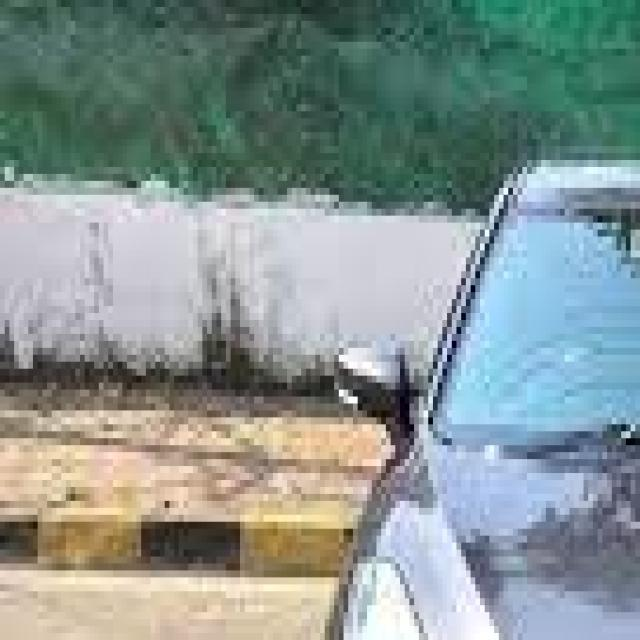car: (301, 153, 640, 640)
